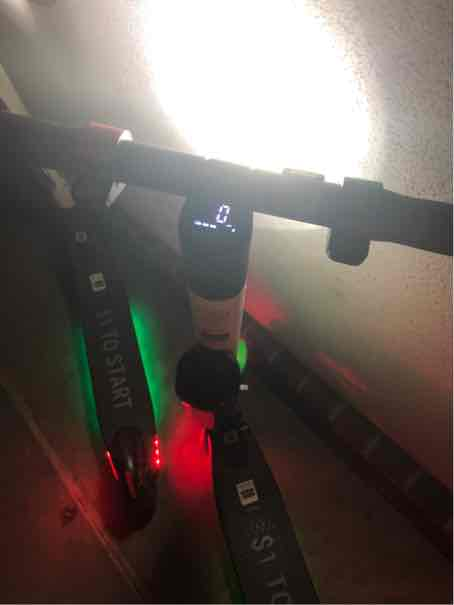scooter: (10, 89, 429, 603)
